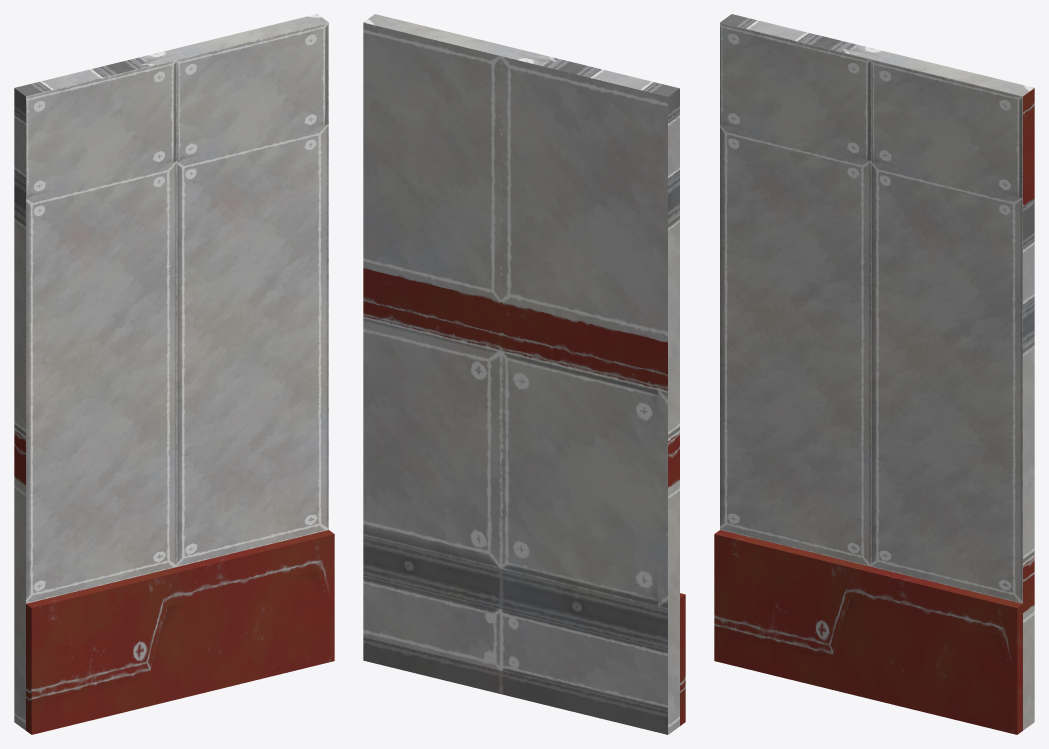
File: SM_Wall_Standard_B.fbx
3 renders of one model, left to right at view 1: azimuth 30°, elevation 25°; view 2: azimuth 150°, elevation 25°; view 3: azimuth 330°, elevation 25°, orthographic.
Visible parts, largest first — view 1: SM_Wall_Standard_B; view 2: SM_Wall_Standard_B; view 3: SM_Wall_Standard_B.
Part boxes in pixels (box(x1,y1,x2,y2)): SM_Wall_Standard_B: box(14, 14, 334, 734); SM_Wall_Standard_B: box(363, 14, 685, 734); SM_Wall_Standard_B: box(714, 14, 1034, 734).
Bounding box in the file's own units: 100 × 200 × 10.
Materials: 1 (1 with a texture image).
